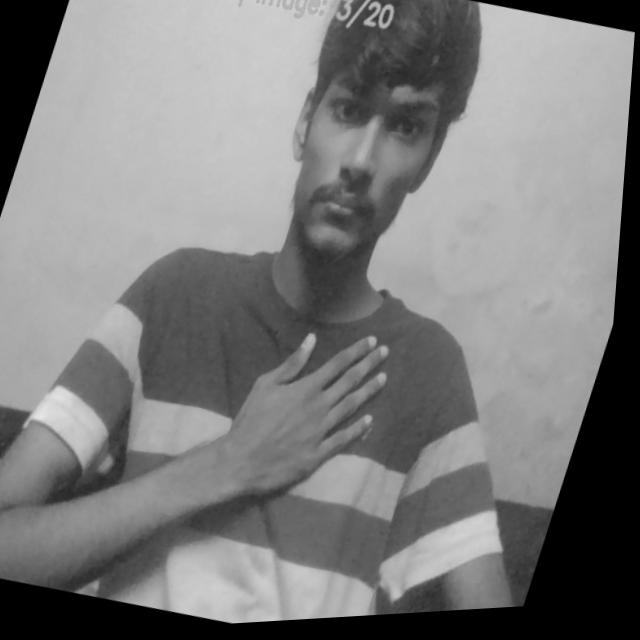Please: (213, 312, 411, 540)
